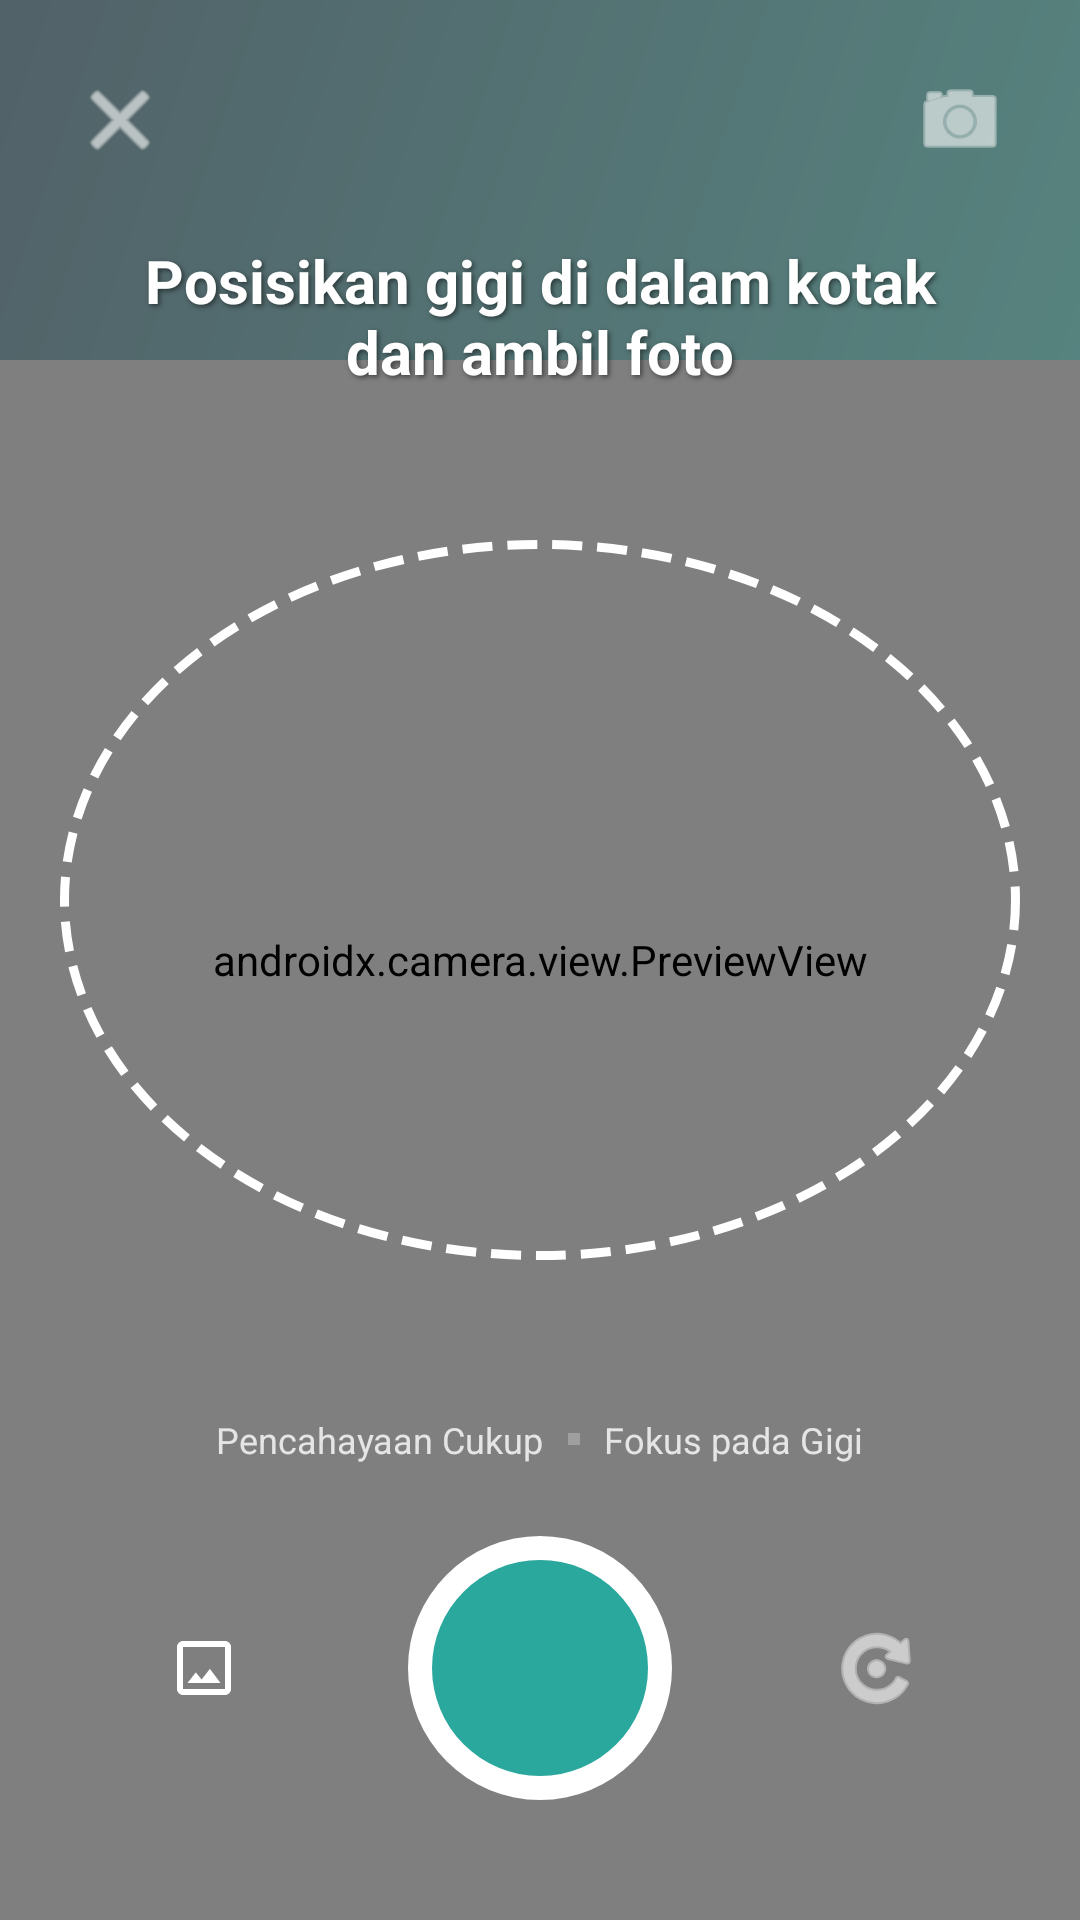

Screen size 1080 × 1920. Icon name, then its center in pixels as (x=x, y=y):
Close: (x=120, y=120)
Flip Camera: (x=876, y=1668)
Galeri: (x=204, y=1668)
